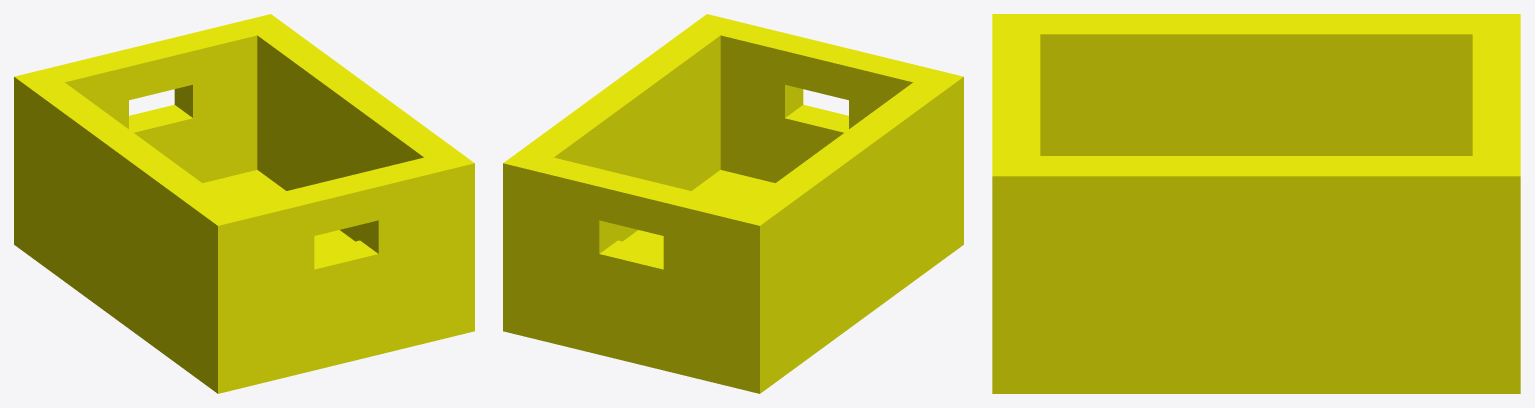
Rendered from voxel-village-market-box.glb.
3 renders of one model, left to right at view 1: azimuth 30°, elevation 25°; view 2: azimuth 150°, elevation 25°; view 3: azimuth 270°, elevation 25°, orthographic. The views are drawn at different scales.
Parts seen in each view (by area): view 1: VS_Villagers_Market_Box; view 2: VS_Villagers_Market_Box; view 3: VS_Villagers_Market_Box.
Boxes of the visible parts, box(x1,y1,x2,y2) form: VS_Villagers_Market_Box: box(14, 14, 474, 393); VS_Villagers_Market_Box: box(503, 14, 963, 393); VS_Villagers_Market_Box: box(992, 14, 1520, 393).
Bounding box in the file's own units: 0.8 × 0.5 × 1.1.
